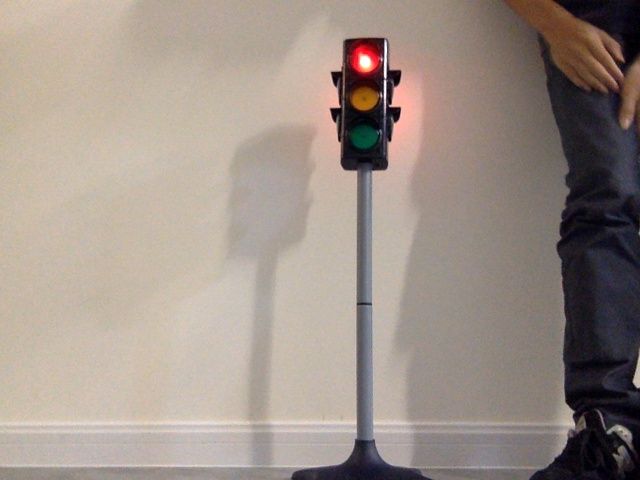red: (345, 41, 381, 156)
